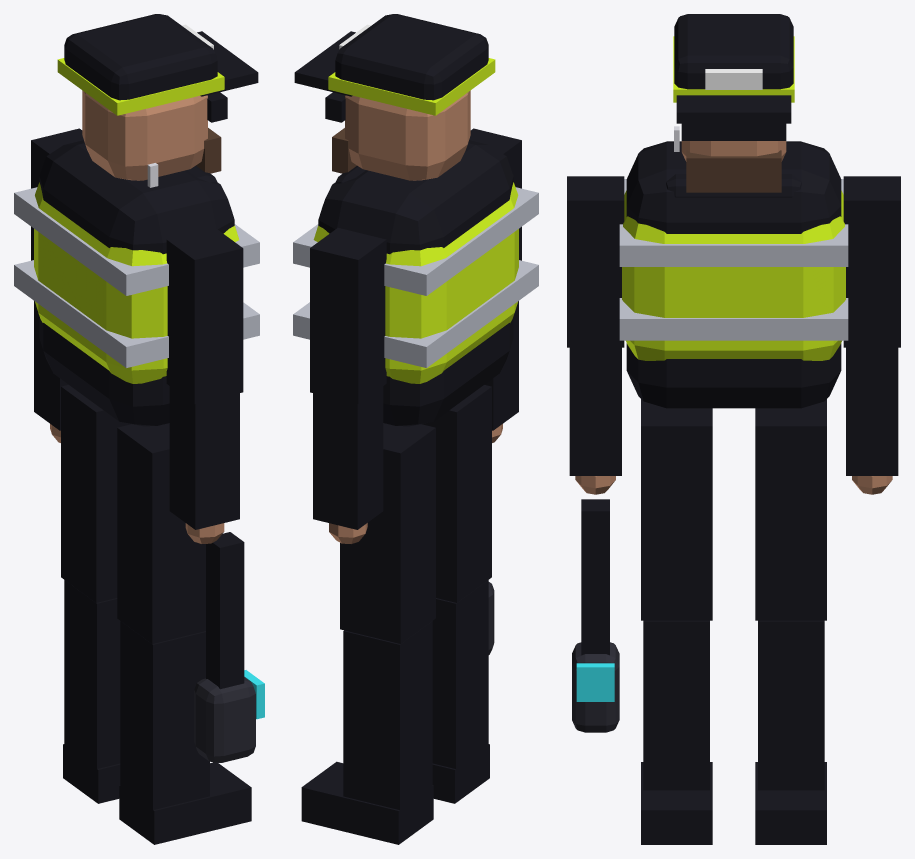
Rendered from agent_kleber_peagiste.glb.
The picture shows the model from 3 angles, left to right: view 1: azimuth 30°, elevation 25°; view 2: azimuth 150°, elevation 25°; view 3: azimuth 270°, elevation 25°; orthographic projection.
Visible parts, largest first — view 1: p_rbox.2269, p_box.8702, p_box.8703, p_box.8716, p_box.8705, p_rbox.2270, p_box.8706, p_rbox.2272, p_box.8717, p_rbox.2271, p_box.8718, p_box.8704 (+11 smaller); view 2: p_rbox.2269, p_box.8705, p_box.8706, p_box.8720, p_box.8702, p_rbox.2270, p_box.8703, p_rbox.2272, p_box.8721, p_rbox.2271, p_box.8707, p_box.8709 (+9 smaller); view 3: p_rbox.2269, p_rbox.2270, p_box.8705, p_box.8702, p_box.8706, p_box.8703, p_box.8720, p_box.8716, p_rbox.2272, p_box.8721, p_box.8717, p_box.8709 (+13 smaller).
Part boxes in pixels (<box>): p_rbox.2269: <box>39,140,234,426</box>; p_box.8702: <box>117,423,205,643</box>; p_box.8703: <box>120,621,209,822</box>; p_box.8716: <box>166,228,243,403</box>; p_box.8705: <box>61,384,131,602</box>; p_rbox.2270: <box>34,182,239,383</box>; p_box.8706: <box>64,580,120,781</box>; p_rbox.2272: <box>64,14,217,100</box>; p_box.8717: <box>169,386,239,529</box>; p_rbox.2271: <box>82,90,207,180</box>; p_box.8718: <box>206,532,244,689</box>; p_box.8704: <box>119,762,251,844</box>; p_rbox.2269: <box>318,140,513,426</box>; p_box.8705: <box>340,423,435,643</box>; p_box.8706: <box>343,621,432,822</box>; p_box.8720: <box>310,228,386,404</box>; p_box.8702: <box>421,385,491,602</box>; p_rbox.2270: <box>313,182,518,383</box>; p_box.8703: <box>432,580,488,781</box>; p_rbox.2272: <box>335,14,488,100</box>; p_box.8721: <box>313,386,383,529</box>; p_rbox.2271: <box>345,90,470,180</box>; p_box.8707: <box>301,761,433,844</box>; p_box.8709: <box>293,187,538,295</box>; p_rbox.2269: <box>626,141,841,408</box>; p_rbox.2270: <box>622,190,845,360</box>; p_box.8705: <box>755,399,826,620</box>; p_box.8702: <box>641,399,712,620</box>; p_box.8706: <box>758,620,824,790</box>; p_box.8703: <box>643,620,709,790</box>; p_box.8720: <box>843,176,900,347</box>; p_box.8716: <box>567,176,624,347</box>; p_rbox.2272: <box>674,14,793,89</box>; p_box.8721: <box>846,347,898,475</box>; p_box.8717: <box>569,347,621,475</box>; p_box.8709: <box>619,179,848,266</box>.
Size of the model in its own units: 0.395 by 1.8 by 0.7.
